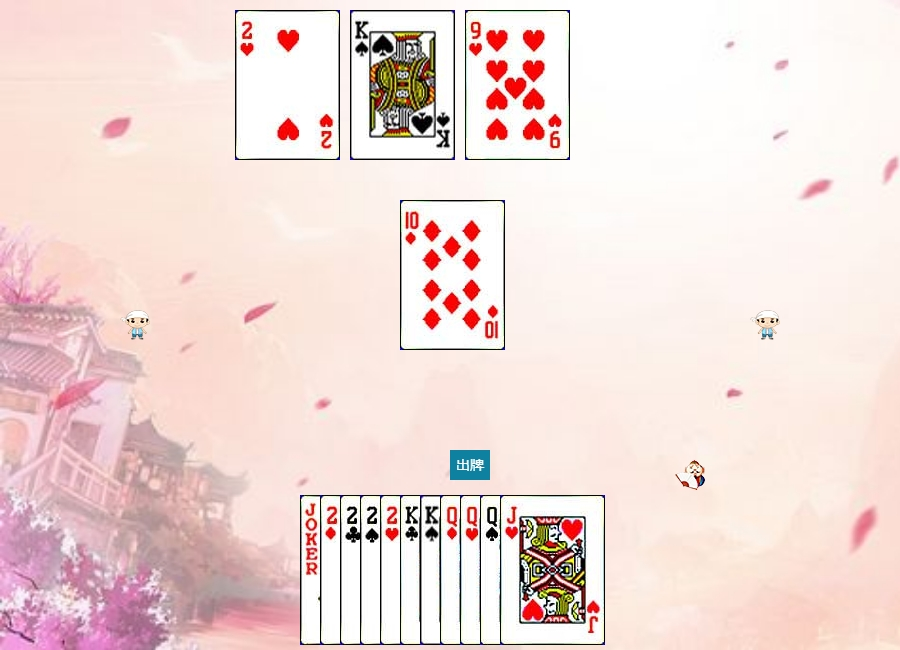10~1: (400, 200, 505, 350)
11~3: (500, 495, 605, 645)
12~1: (440, 495, 545, 645)
12~3: (460, 495, 565, 645)
12~4: (480, 495, 585, 645)
13~2: (400, 495, 505, 645)
13~4: (350, 10, 455, 160), (420, 495, 525, 645)
15~1: (320, 495, 425, 645)
15~2: (340, 495, 445, 645)
15~3: (235, 10, 340, 160), (380, 495, 485, 645)
15~4: (360, 495, 465, 645)
18~4: (300, 495, 405, 645)
9~3: (465, 10, 570, 160)
